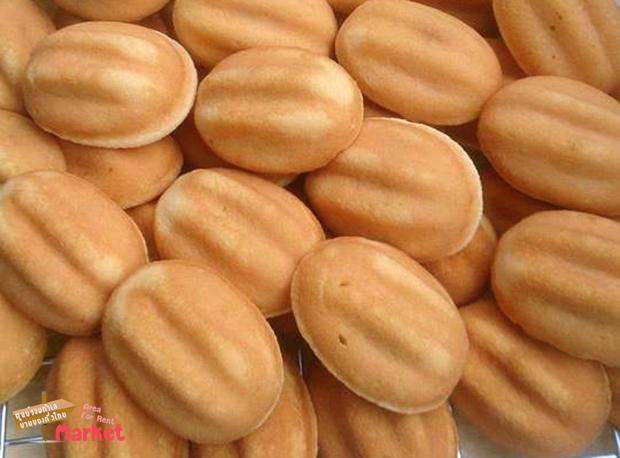kanomkai: (90, 247, 295, 446), (285, 228, 471, 417), (311, 101, 486, 275), (16, 10, 199, 160), (187, 38, 366, 183), (479, 49, 620, 217)
